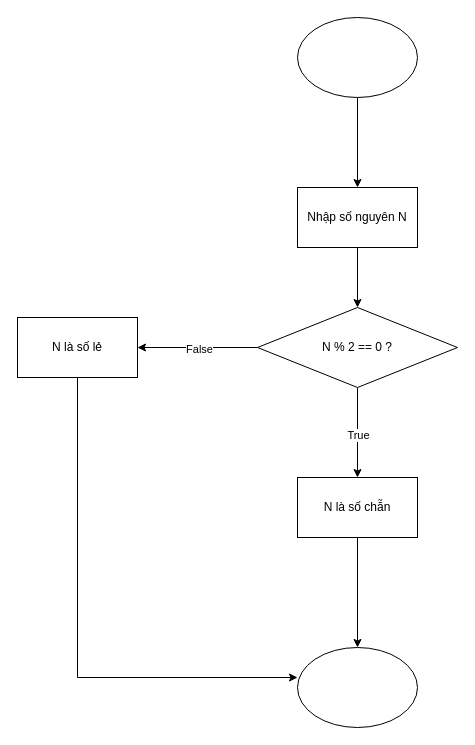
Image size: 475x745. Some labels were removed from this diagram. The shapes that lost their labels are listed below. From the top down, each one's centre as x and y in pixels, then its label:
At pixel 357 57: "Start".
At pixel 357 687: "End".
